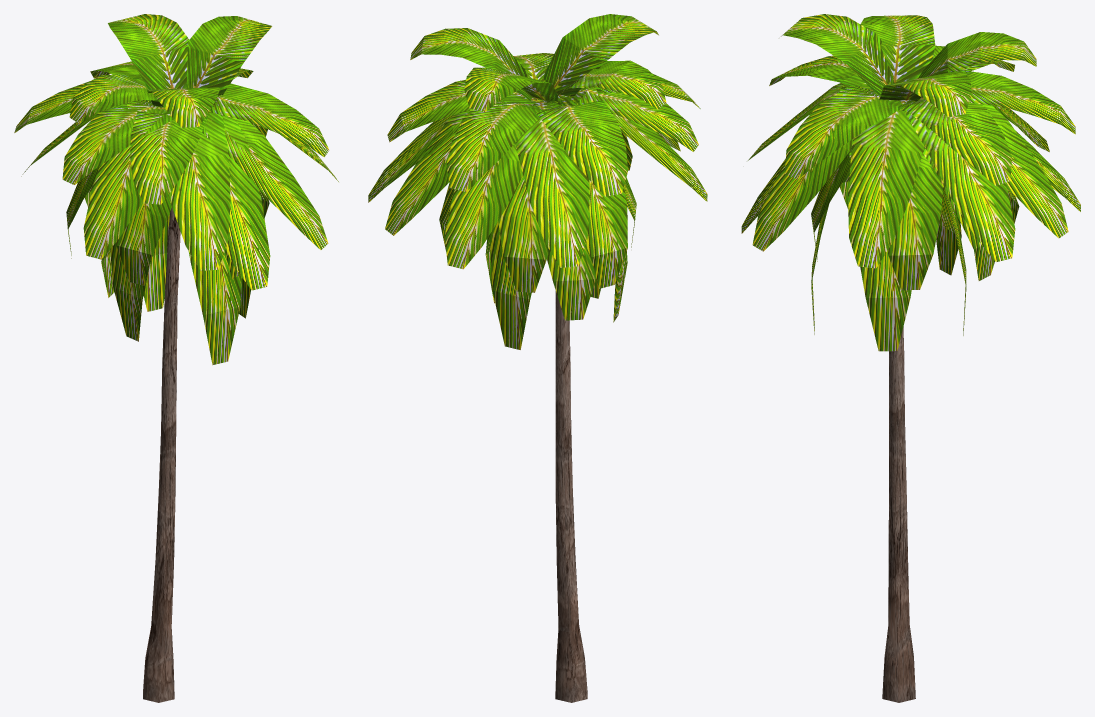
File: forsherwen-3.fbx
3 renders of one model, left to right at view 1: azimuth 30°, elevation 25°; view 2: azimuth 150°, elevation 25°; view 3: azimuth 270°, elevation 25°, orthographic. The views are drawn at different scales.
Parts seen in each view (by area): view 1: Plane.003; view 2: Plane.003; view 3: Plane.003.
Boxes of the visible parts, bbox=[...] form: Plane.003: bbox=[14, 14, 338, 702]; Plane.003: bbox=[368, 14, 707, 702]; Plane.003: bbox=[741, 14, 1080, 702].
Bounding box in the file's own units: 1.4 × 1.46 × 3.1.
